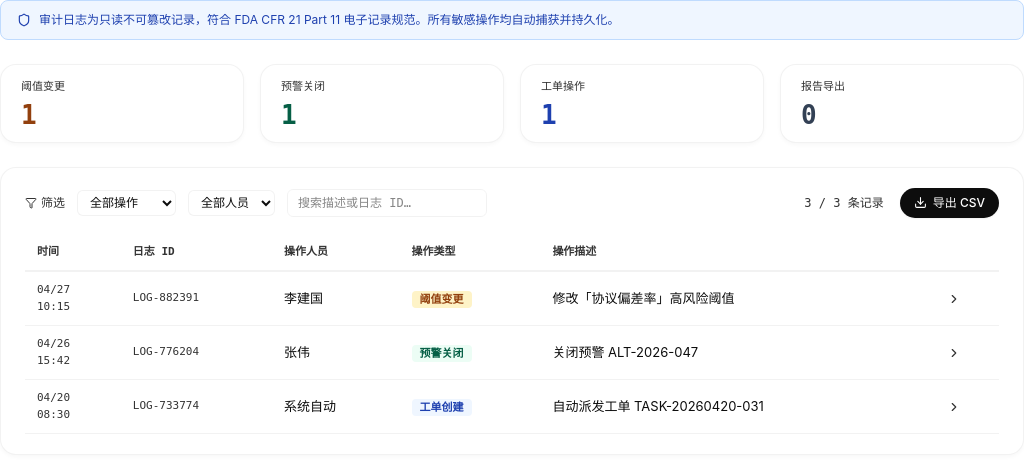
Test case: AuditTrail › shows empty state when no results match filter
Step 1. Type "NOMATCH_XXXXXX" into the field named "搜索日志" → (387, 202), box x1=287 y1=188 x2=487 y2=216
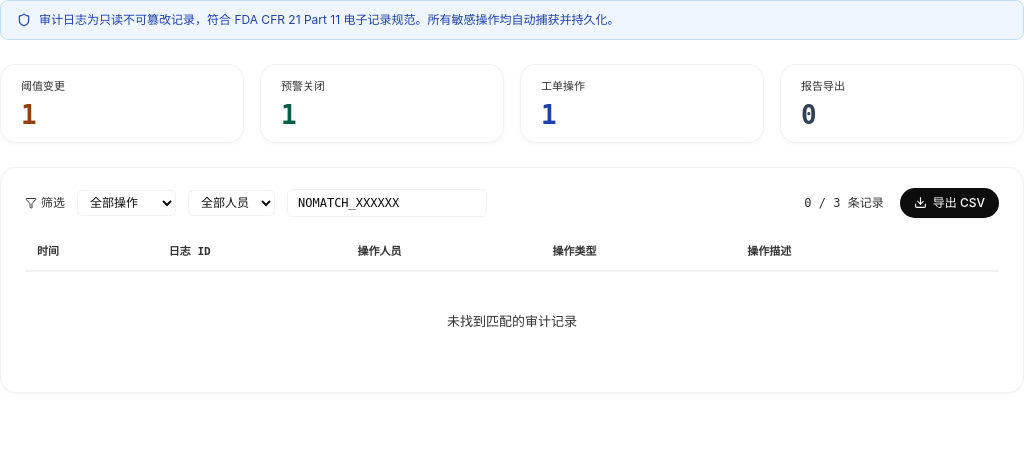
Expected: the text "未找到匹配的审计记录" is shown, x1=25 y1=271 x2=999 y2=372
